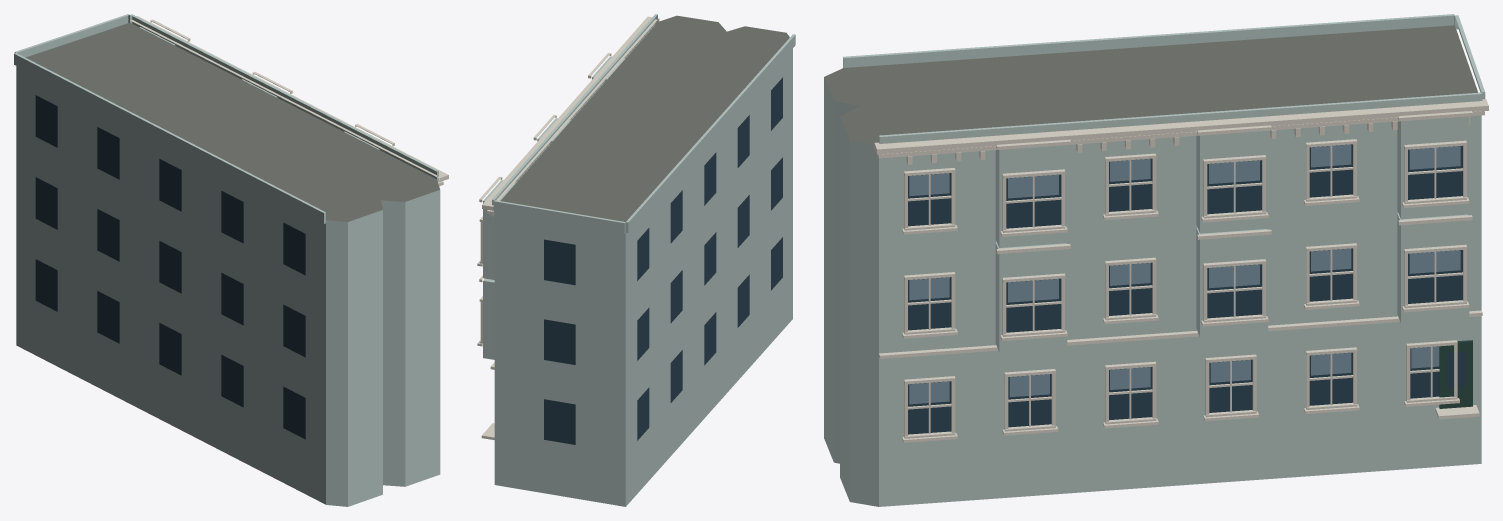
The picture shows the model from 3 angles, left to right: view 1: azimuth 30°, elevation 25°; view 2: azimuth 150°, elevation 25°; view 3: azimuth 270°, elevation 25°; orthographic projection. The views are drawn at different scales.
Parts seen in each view (by area): view 1: Footprint 0 / surface 2, Footprint 0 / surface 1, Inset glazing, Facade bay volumes, Cornices and window frames; view 2: Footprint 0 / surface 2, Footprint 0 / surface 1, Inset glazing, Facade bay volumes, Cornices and window frames; view 3: Footprint 0 / surface 2, Footprint 0 / surface 1, Cornices and window frames, Facade bay volumes, Inset glazing, Sky reflection panels, Storefronts and doors.
Boxes of the visible parts, box(x1,y1,x2,y2) form: Footprint 0 / surface 2: box(16, 66, 440, 506); Footprint 0 / surface 1: box(25, 22, 439, 221); Inset glazing: box(35, 95, 305, 439); Facade bay volumes: box(14, 14, 438, 223); Cornices and window frames: box(130, 16, 448, 186); Footprint 0 / surface 2: box(494, 48, 792, 506); Footprint 0 / surface 1: box(500, 15, 789, 221); Inset glazing: box(544, 77, 782, 444); Facade bay volumes: box(483, 14, 795, 359); Cornices and window frames: box(477, 16, 659, 439); Footprint 0 / surface 2: box(824, 77, 1481, 506); Footprint 0 / surface 1: box(824, 25, 1477, 144); Cornices and window frames: box(874, 99, 1488, 442); Facade bay volumes: box(843, 14, 1485, 351); Inset glazing: box(908, 144, 1466, 434); Sky reflection panels: box(909, 144, 1460, 404); Storefronts and doors: box(1439, 340, 1472, 408).
Size of the model in its own units: 9.9 by 13.33 by 21.62.
